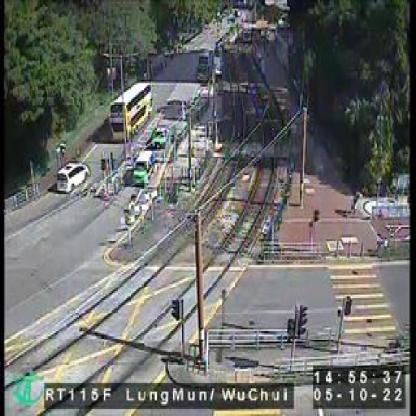Bus: (109, 80, 151, 142)
Car: (56, 161, 86, 191), (130, 149, 153, 184), (152, 125, 169, 147)
